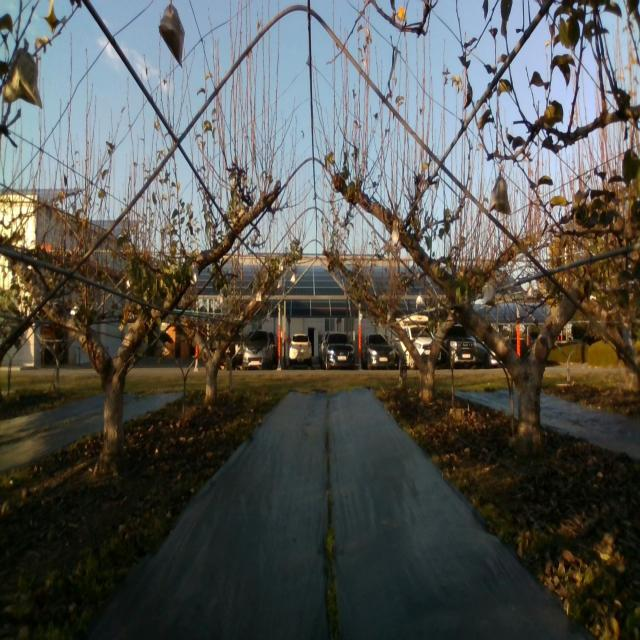pearbags: (2, 48, 42, 108), (159, 4, 184, 67), (489, 175, 511, 215), (483, 285, 496, 307)
